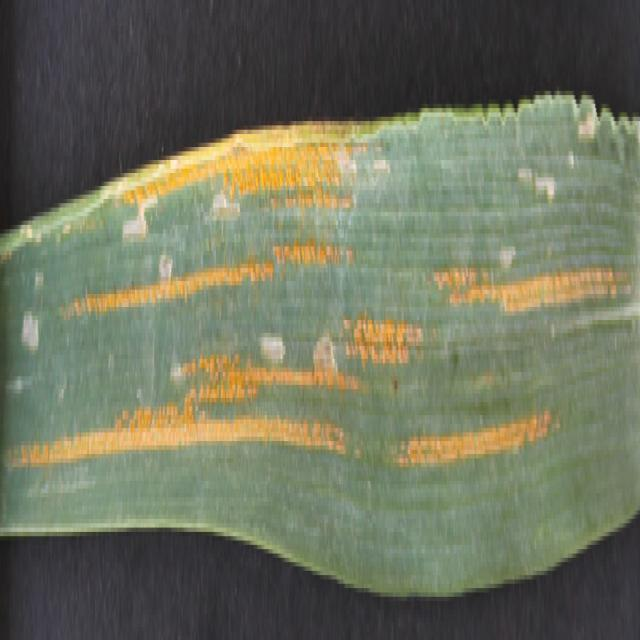leaf rust: (79, 121, 428, 359), (1, 368, 366, 497), (387, 376, 568, 506), (435, 238, 634, 328)
